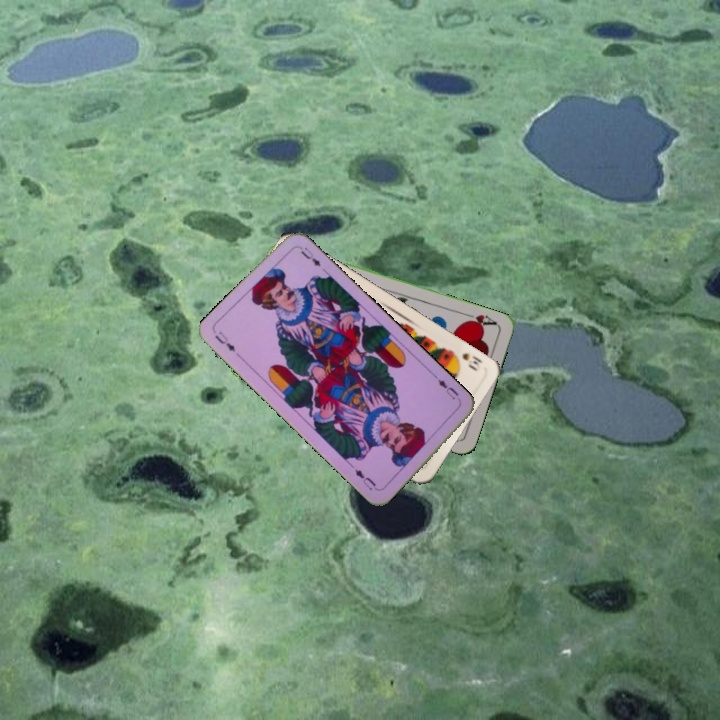EU: (211, 327, 244, 360), (432, 373, 464, 405)
HA: (460, 309, 500, 330)
S10: (448, 347, 485, 374)
